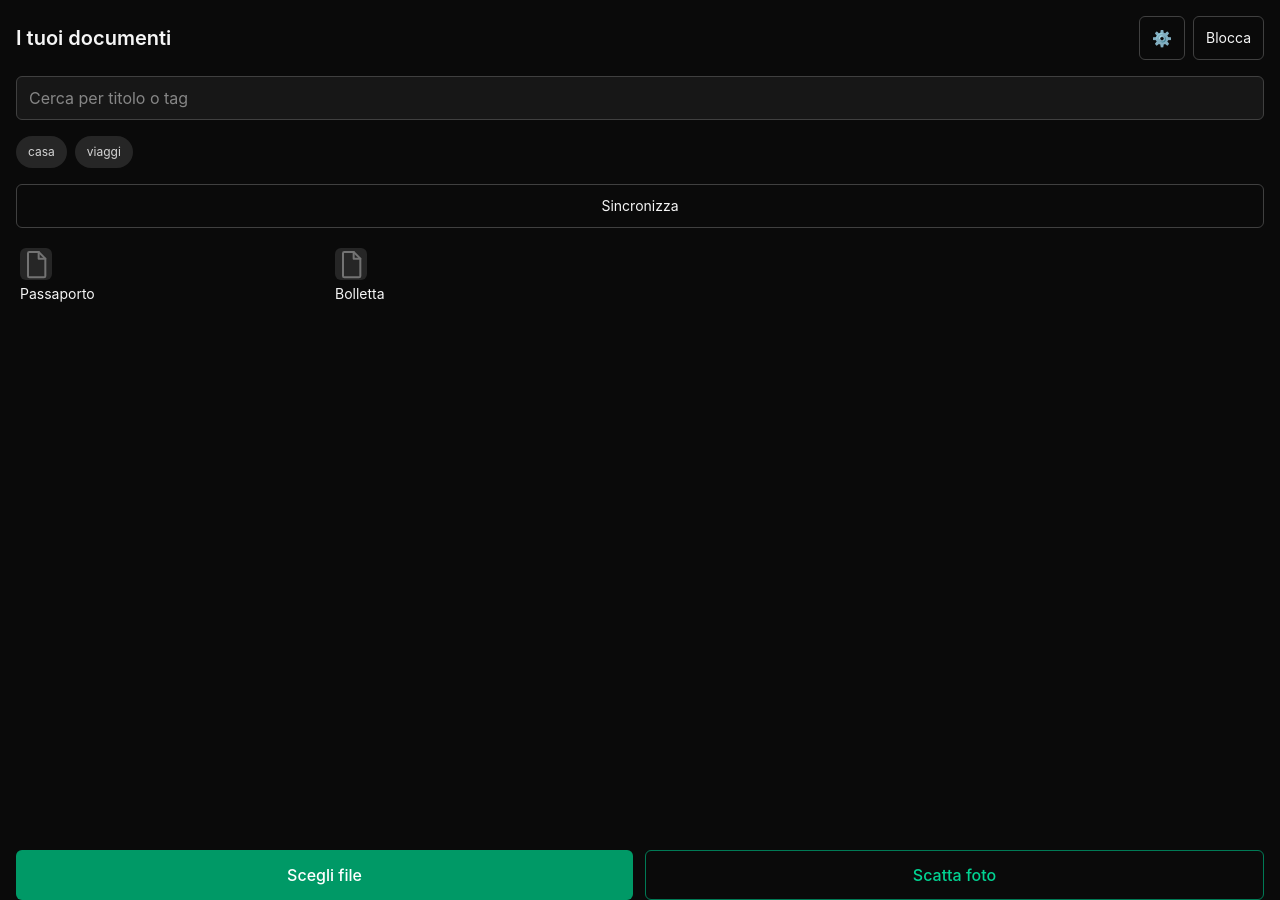
Vault › filters by title or tag substring
Expected: the text "Passaporto" is shown, [20,284,95,304]
Type "viaggi" into the search field labelled "Cerca per titolo o tag" at (640, 98), box [16,76,1264,120]
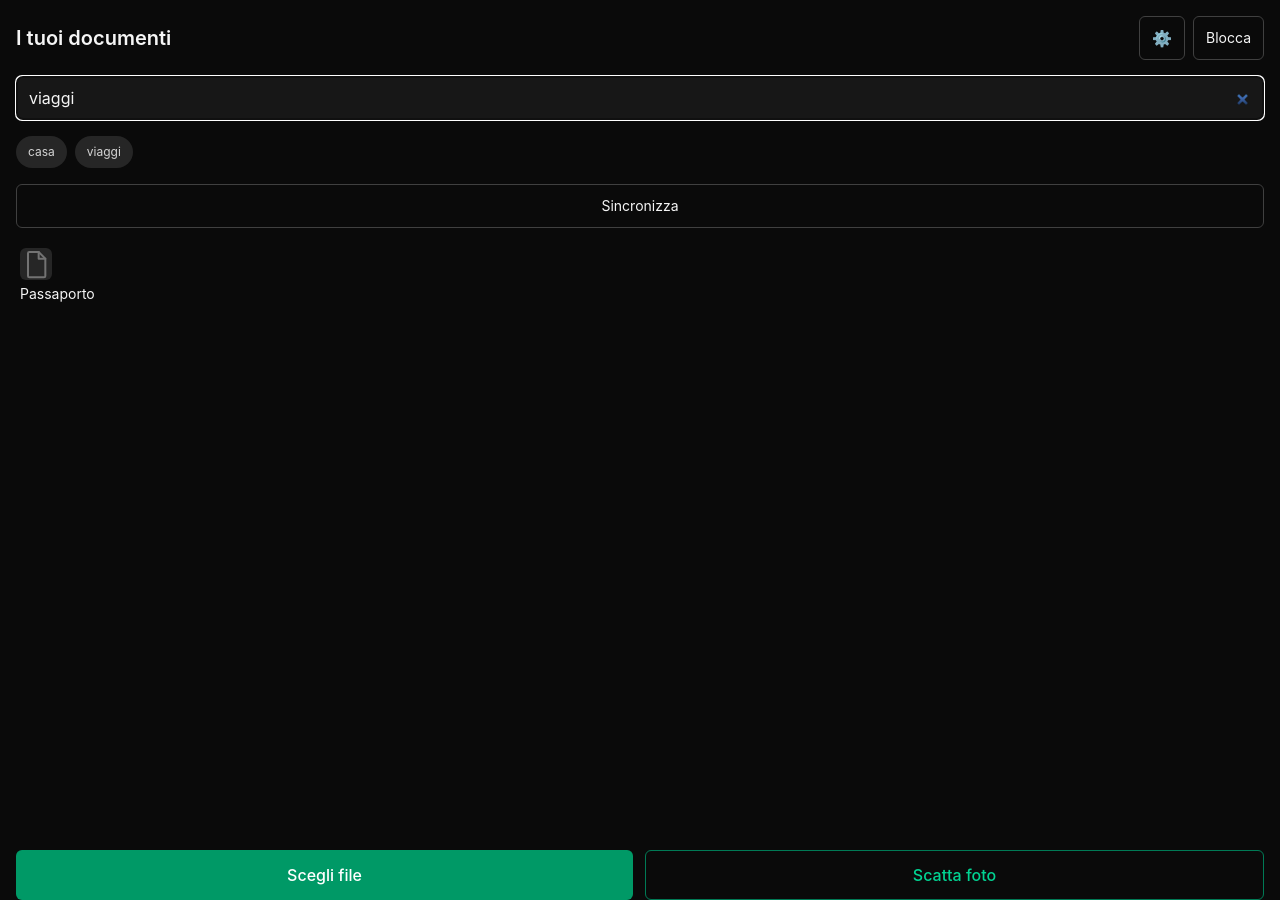
Expected: the text "Passaporto" is shown, [20,284,95,304]
Result: the button "Bolletta" is gone
